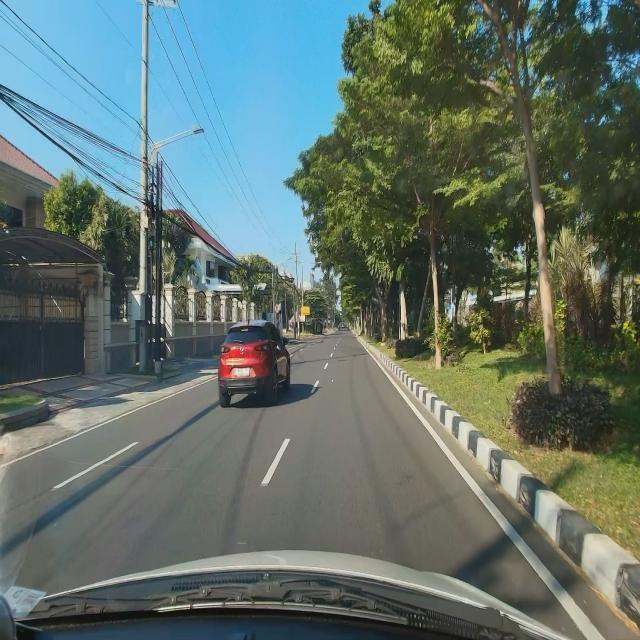car: (218, 319, 291, 408)
license-plate: (234, 366, 250, 376)
